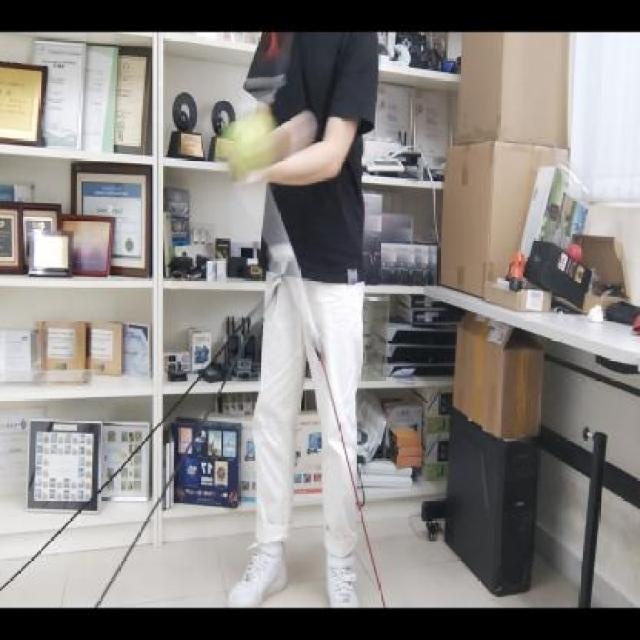baseball: (215, 109, 280, 182)
